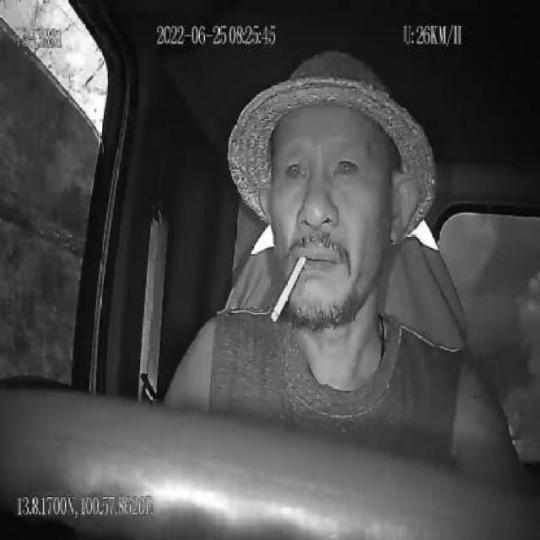smoking: (272, 255, 312, 324)
